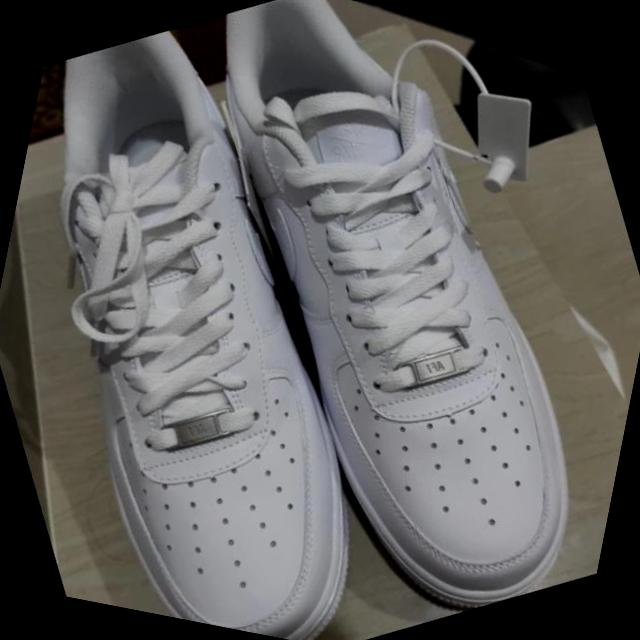nike_fake_airforce: (91, 0, 640, 640), (0, 0, 500, 640)
